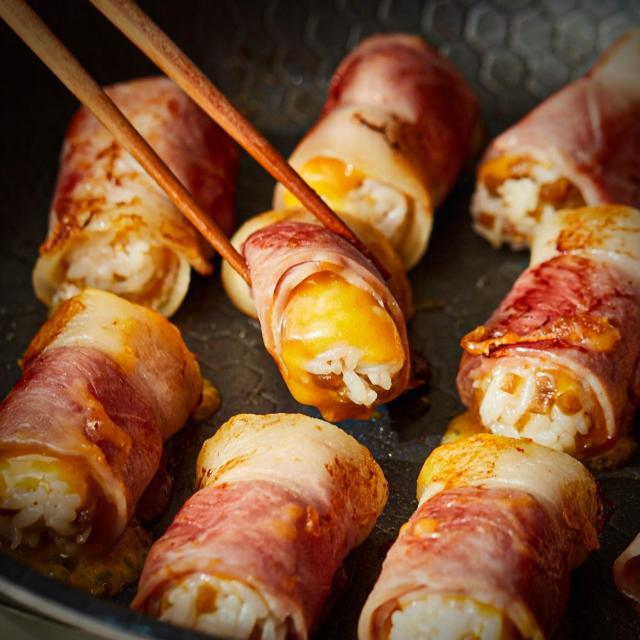bacon: (176, 426, 360, 604), (9, 291, 172, 481), (410, 443, 586, 602), (489, 229, 640, 381)
